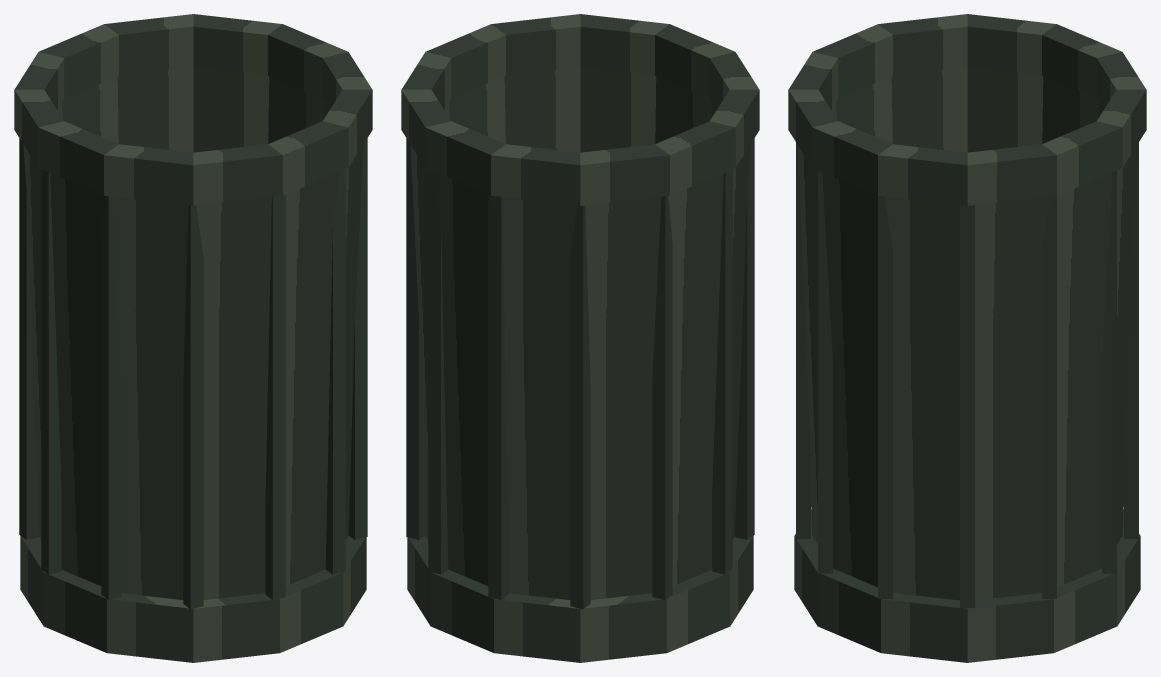
The model's file is trash_can.gltf.
3 renders of one model, left to right at view 1: azimuth 30°, elevation 25°; view 2: azimuth 150°, elevation 25°; view 3: azimuth 270°, elevation 25°, orthographic.
Visible parts, largest first — view 1: barrel, vertical_rib (×7), base, inner_liner, open_rim, rim_top (×12), rim_inner; view 2: barrel, vertical_rib (×7), base, inner_liner, open_rim, rim_top (×12), rim_inner; view 3: barrel, vertical_rib (×7), base, inner_liner, open_rim, rim_top (×12), rim_inner.
Part boxes in pixels (<box>): barrel: <box>23,144,363,599</box>; vertical_rib (×7): <box>19,138,367,609</box>; base: <box>20,535,366,662</box>; inner_liner: <box>57,67,329,152</box>; open_rim: <box>14,90,372,205</box>; rim_top (×12): <box>14,14,372,165</box>; rim_inner: <box>44,26,342,109</box>; barrel: <box>410,144,750,599</box>; vertical_rib (×7): <box>406,138,754,609</box>; base: <box>407,535,753,662</box>; inner_liner: <box>444,67,716,152</box>; open_rim: <box>401,90,759,205</box>; rim_top (×12): <box>401,14,759,165</box>; rim_inner: <box>431,26,729,109</box>; barrel: <box>798,145,1136,600</box>; vertical_rib (×7): <box>796,142,1138,608</box>; base: <box>794,509,1140,662</box>; inner_liner: <box>831,67,1103,152</box>; open_rim: <box>788,90,1146,205</box>; rim_top (×12): <box>788,14,1146,165</box>; rim_inner: <box>818,26,1116,109</box>.
Size of the model in its own units: 0.75 by 1.16 by 0.75.
1 material, 1 textured.
